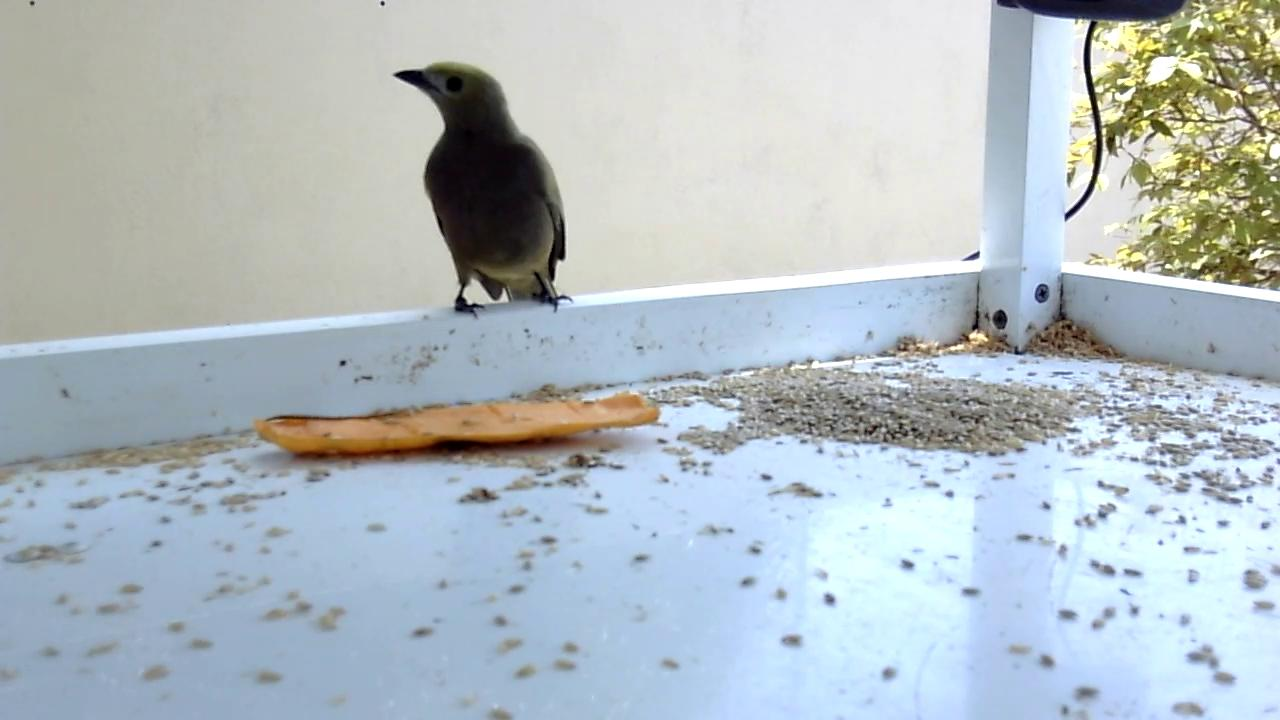sanhaco_do_coqueiro: (391, 60, 573, 320)
